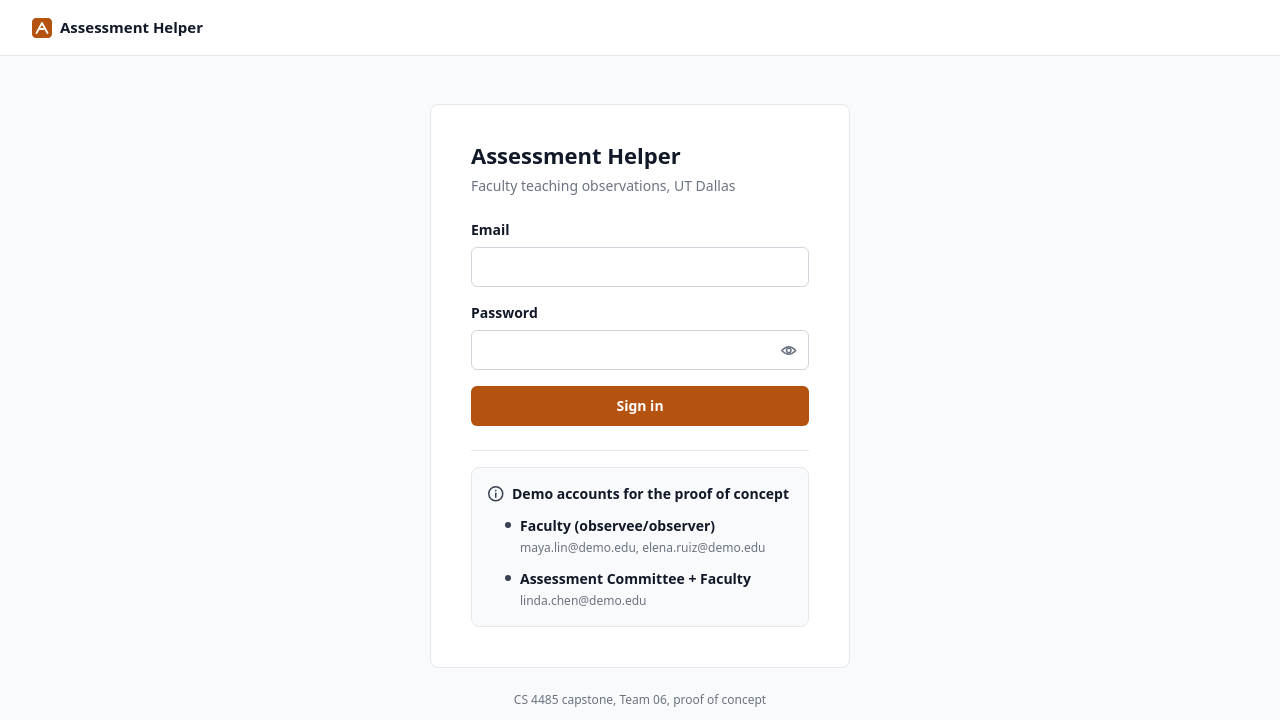
demo mode needs no Firebase setup and keeps its demo token
Type "maya.lin@demo.edu" into the field labelled "Email" at x=640, y=267, box left=471, top=247, right=809, bottom=287
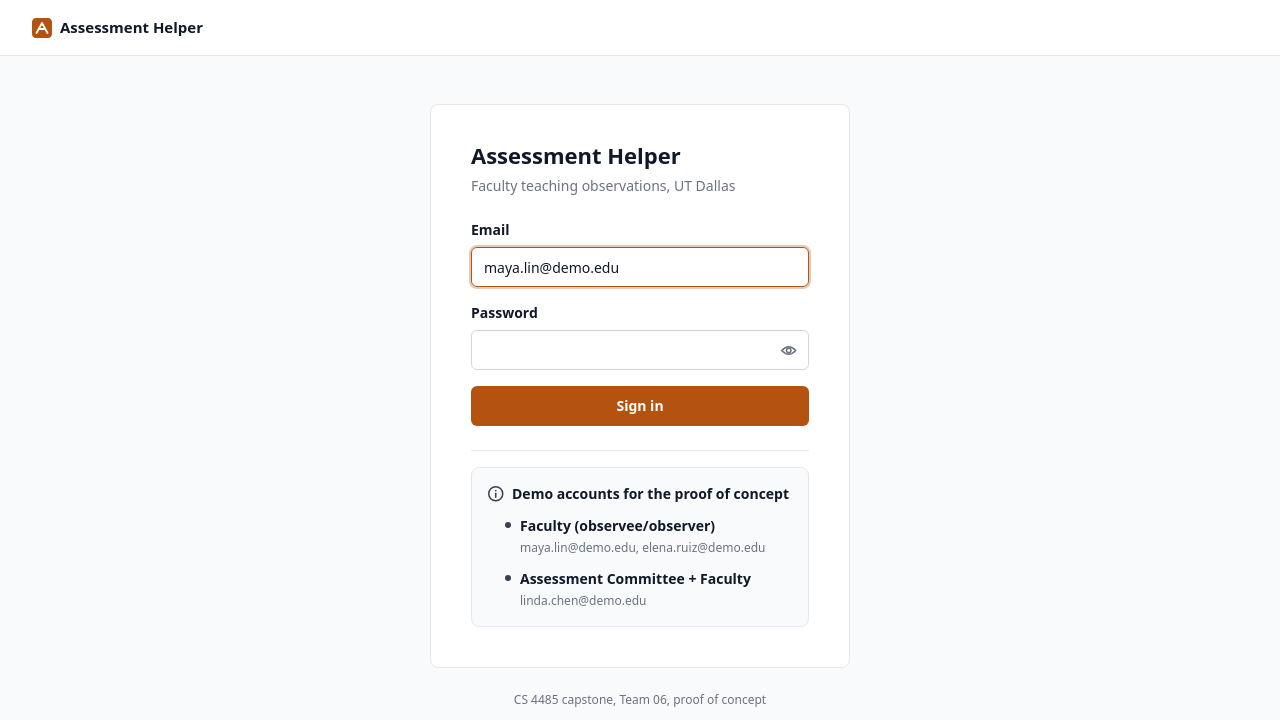
Type "anything" into the password field labelled "Password" at x=640, y=350, box left=471, top=330, right=809, bottom=370
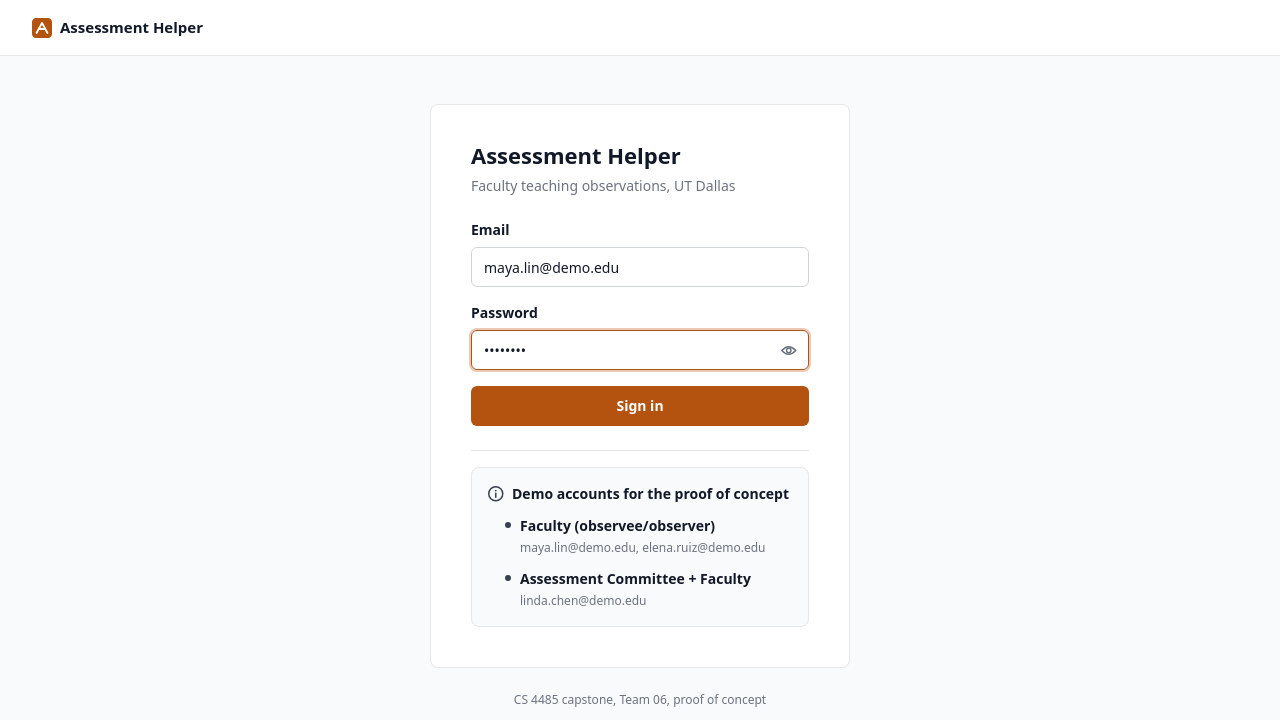
Click the button "Sign in" at x=640, y=406, box left=471, top=386, right=809, bottom=426
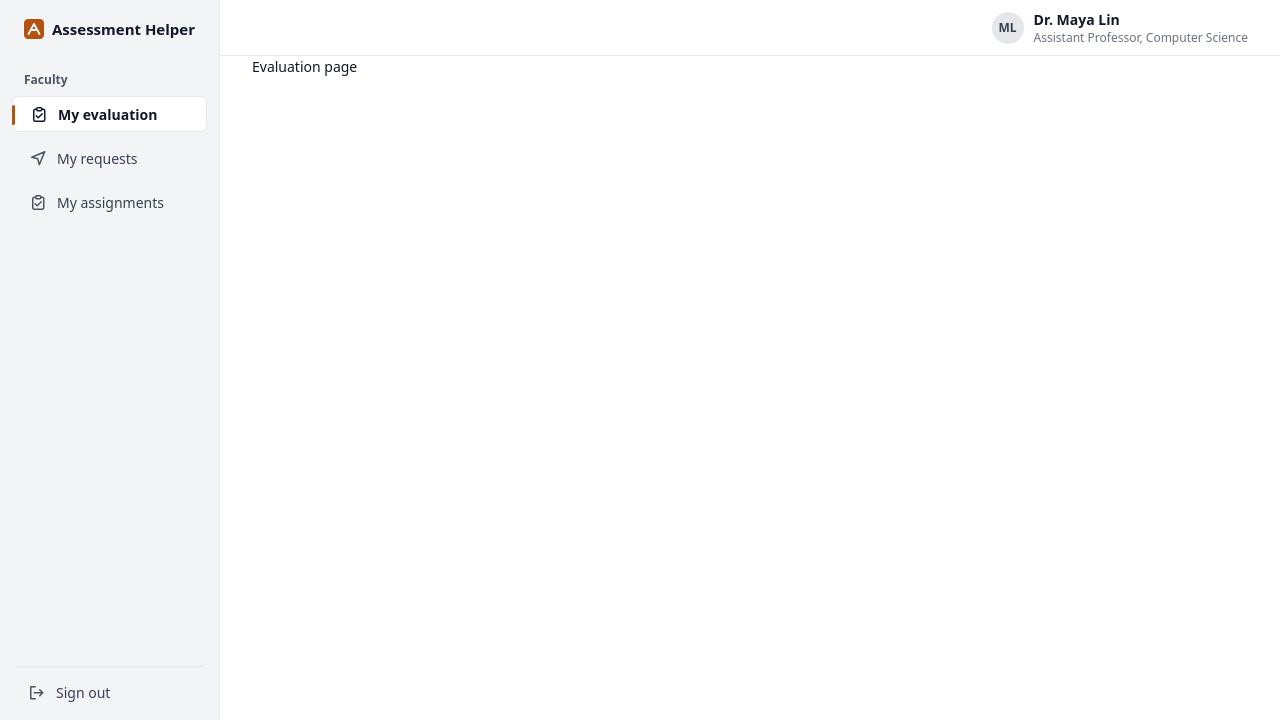
Expected: the text "Evaluation page" is shown, left=252, top=57, right=357, bottom=76
